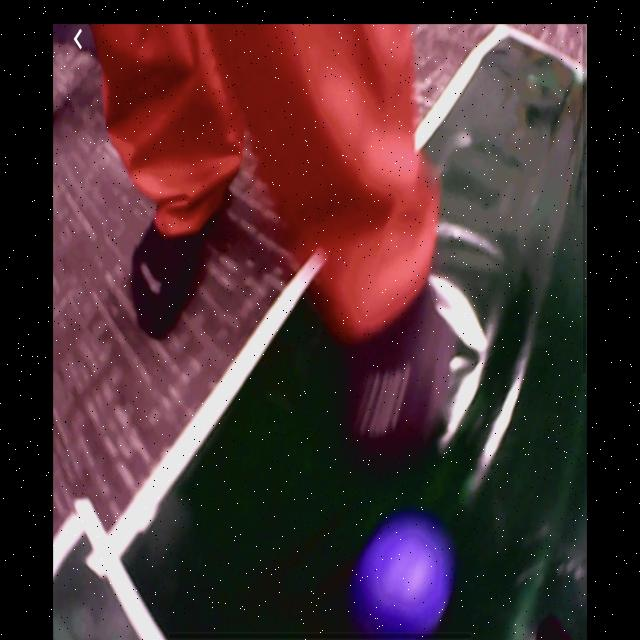ball: (360, 517, 448, 629)
